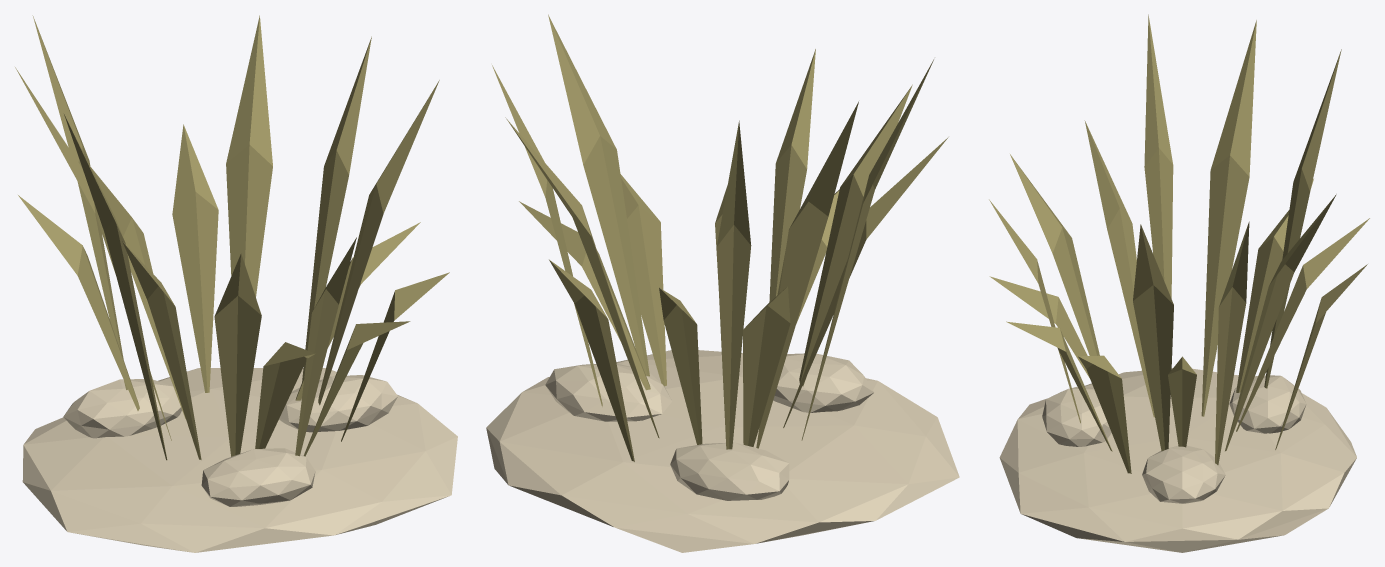
The model's file is shell_bank.glb.
The picture shows the model from 3 angles, left to right: view 1: azimuth 30°, elevation 25°; view 2: azimuth 150°, elevation 25°; view 3: azimuth 270°, elevation 25°; orthographic projection. The views are drawn at different scales.
Parts seen in each view (by area): view 1: MG2 shell_bank MG2 Shell, MG2 shell_bank MG2 Dry grass; view 2: MG2 shell_bank MG2 Shell, MG2 shell_bank MG2 Dry grass; view 3: MG2 shell_bank MG2 Dry grass, MG2 shell_bank MG2 Shell.
Part boxes in pixels (left/top/right/bottom): MG2 shell_bank MG2 Shell: left=22, top=368, right=457, bottom=552; MG2 shell_bank MG2 Dry grass: left=15, top=15, right=449, bottom=460; MG2 shell_bank MG2 Shell: left=486, top=350, right=959, bottom=552; MG2 shell_bank MG2 Dry grass: left=492, top=14, right=948, bottom=461; MG2 shell_bank MG2 Dry grass: left=989, top=14, right=1369, bottom=473; MG2 shell_bank MG2 Shell: left=999, top=368, right=1356, bottom=552.
Size of the model in its own units: 0.4941 by 0.5245 by 0.4708.
